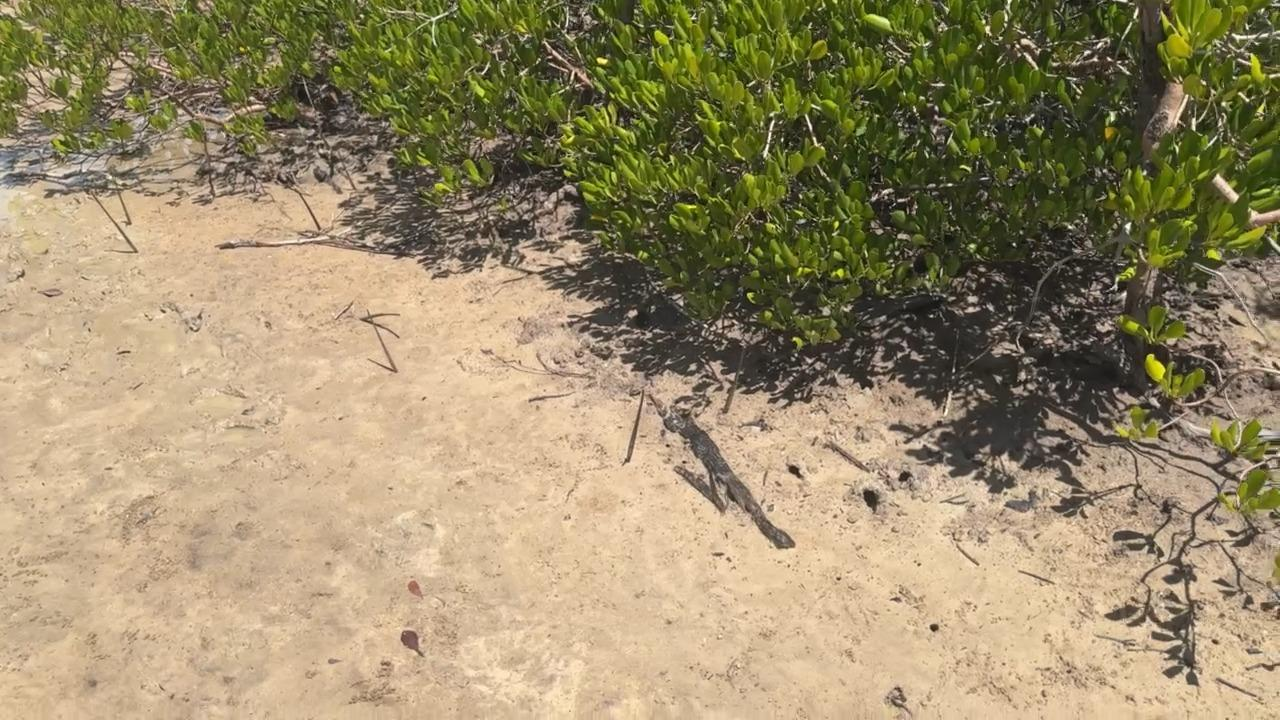Tree: (89, 190, 140, 256), (367, 305, 400, 374), (721, 346, 748, 415), (625, 391, 647, 464), (293, 186, 322, 232), (112, 181, 133, 225), (339, 151, 358, 192)
